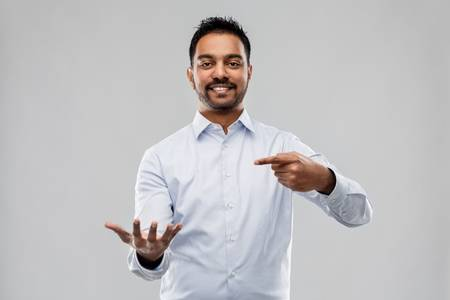F_shirt: (124, 107, 372, 300)
